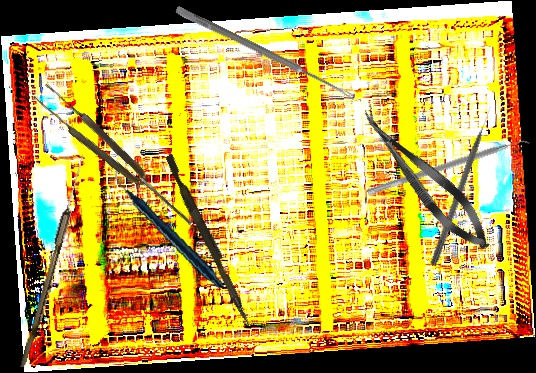Handpiece: (114, 157, 225, 301)
Micro Scissor: (350, 99, 501, 260)
Pusher: (160, 153, 258, 328), (429, 105, 496, 268)
Spatula Surgical: (366, 133, 532, 203)
Surgical Spoon: (174, 5, 358, 102), (20, 152, 87, 370)
Tissue Forceps: (31, 80, 200, 235)
